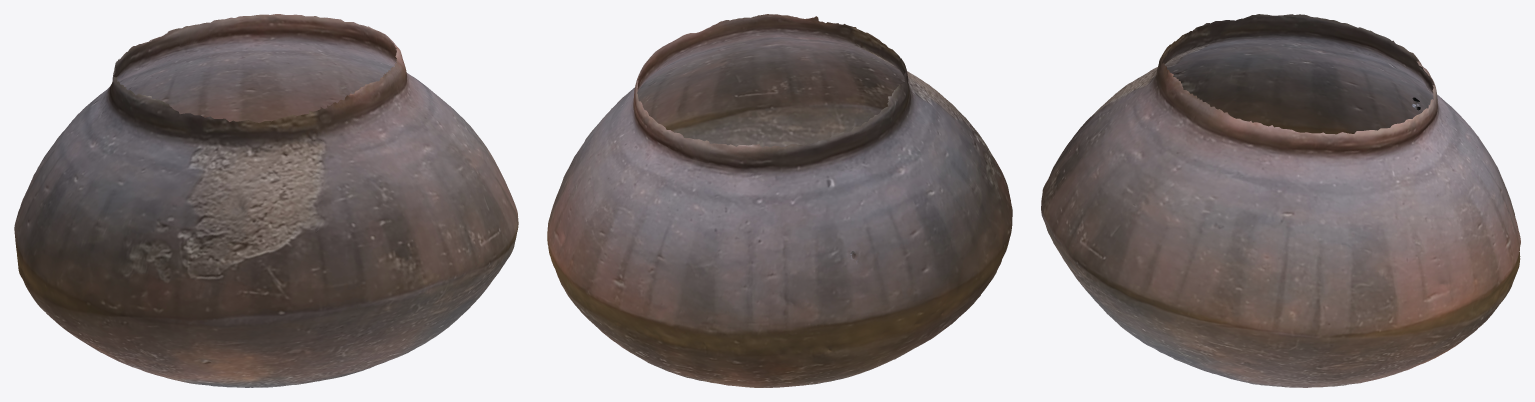
File: ollaBahia.glb
The picture shows the model from 3 angles, left to right: view 1: azimuth 30°, elevation 25°; view 2: azimuth 150°, elevation 25°; view 3: azimuth 270°, elevation 25°; orthographic projection. The views are drawn at different scales.
Parts seen in each view (by area): view 1: skfb_offset; view 2: skfb_offset; view 3: skfb_offset.
Boxes of the visible parts, bbox=[...] form: skfb_offset: bbox=[14, 14, 518, 387]; skfb_offset: bbox=[547, 14, 1012, 387]; skfb_offset: bbox=[1041, 14, 1520, 387].
Size of the model in its own units: 0.3006 by 0.2019 by 0.301.
Materials: 1 (1 with a texture image).
